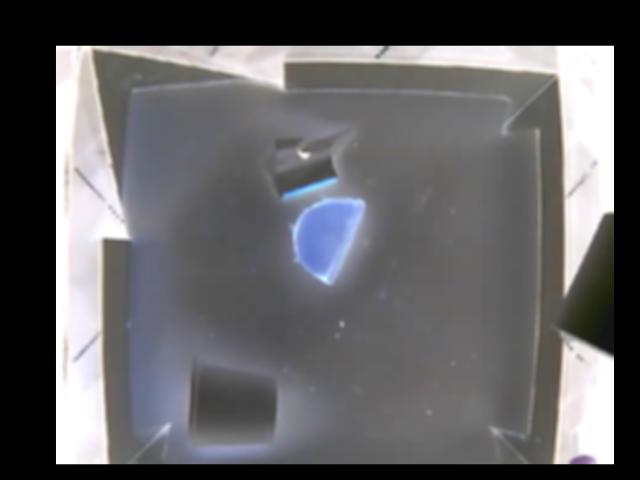China: (259, 129, 351, 200)
Cup: (184, 359, 277, 446)
Potato: (294, 197, 367, 283)
